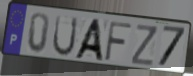0: (26, 11, 51, 56)
7: (158, 24, 188, 71)
A: (72, 18, 105, 63)
F: (103, 20, 134, 64)
U: (51, 14, 80, 58)
Z: (130, 23, 159, 68)
